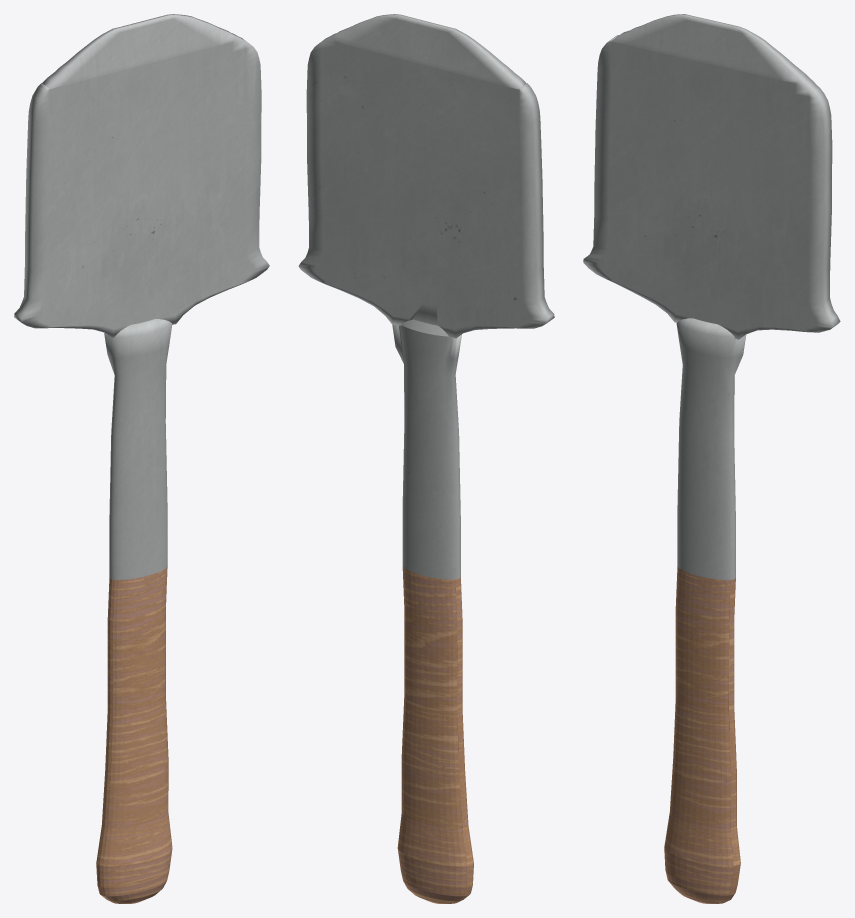
Rendered from Spade.fbx.
3 renders of one model, left to right at view 1: azimuth 30°, elevation 25°; view 2: azimuth 150°, elevation 25°; view 3: azimuth 330°, elevation 25°, orthographic.
Parts seen in each view (by area): view 1: Spade.001; view 2: Spade.001; view 3: Spade.001.
Part boxes in pixels (x1=…): Spade.001: x1=14, y1=14, x2=269, y2=903; Spade.001: x1=298, y1=14, x2=554, y2=903; Spade.001: x1=583, y1=14, x2=840, y2=903.
Bounding box in the file's own units: 29.56 × 99.84 × 3.51.
